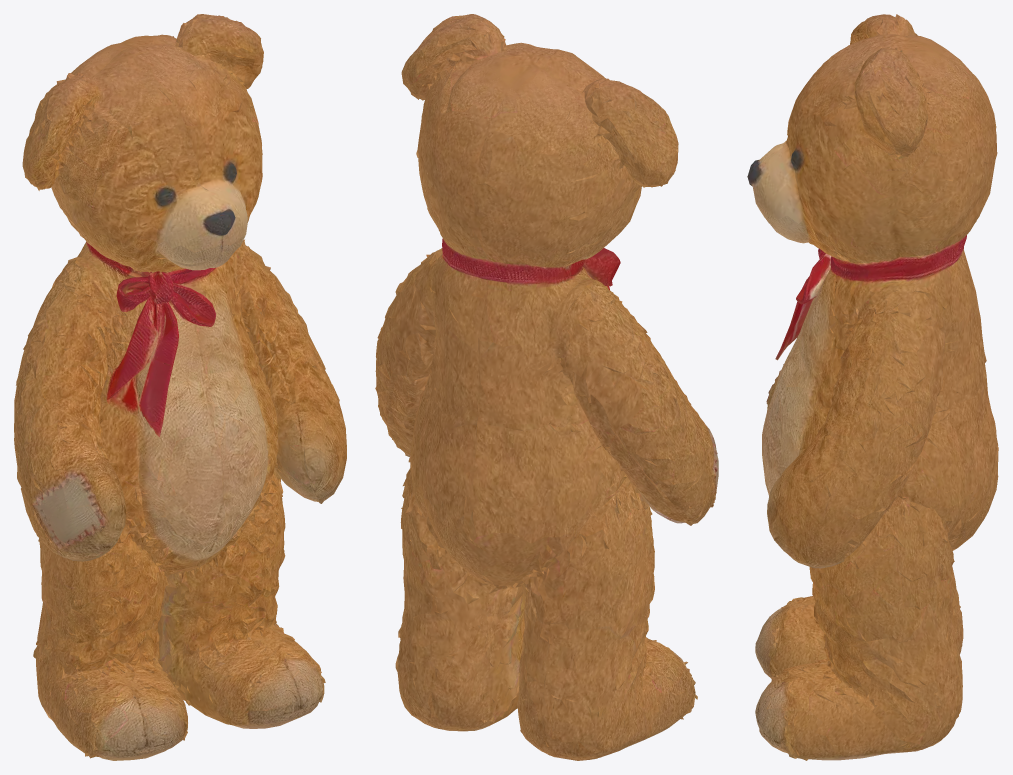
File: boro.glb
3 renders of one model, left to right at view 1: azimuth 30°, elevation 25°; view 2: azimuth 150°, elevation 25°; view 3: azimuth 270°, elevation 25°, orthographic. The views are drawn at different scales.
Visible parts, largest first — view 1: Mesh_0; view 2: Mesh_0; view 3: Mesh_0.
Boxes of the visible parts, x1,y1,x2,y2 form: Mesh_0: [14, 14, 346, 760]; Mesh_0: [375, 14, 718, 760]; Mesh_0: [747, 14, 998, 760].
Size of the model in its own units: 0.9028 by 1.89 by 0.6234.
Materials: 1 (1 with a texture image).
